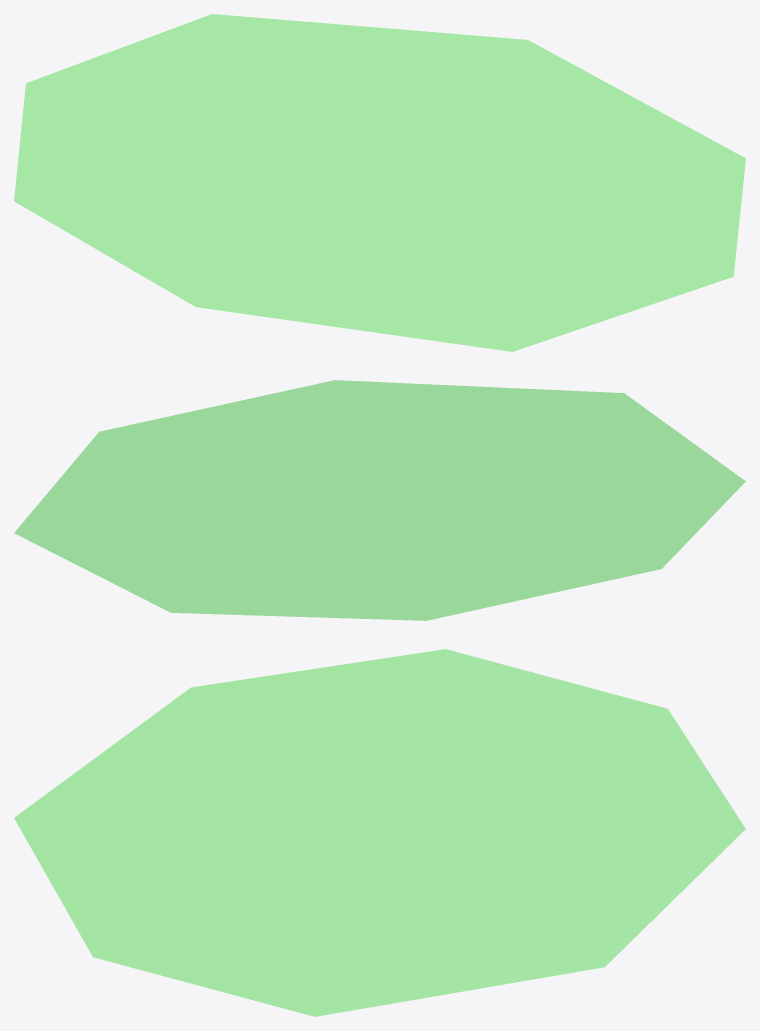
Rendered from UMIRobot_UMIRobot_link_5_convex_coll_80.dae.
3 views of the same model, one above another, from view 1: azimuth 30°, elevation 25°; view 2: azimuth 150°, elevation 25°; view 3: azimuth 270°, elevation 25° (orthographic). The views are drawn at different scales.
Visible parts, largest first — view 1: node; view 2: node; view 3: node.
Boxes of the visible parts, x1,y1,x2,y2 form: node: (14,14,745,351); node: (14,380,745,620); node: (14,649,745,1016).
Bounding box in the file's own units: 0.00503 × 0.000493 × 0.00511.
